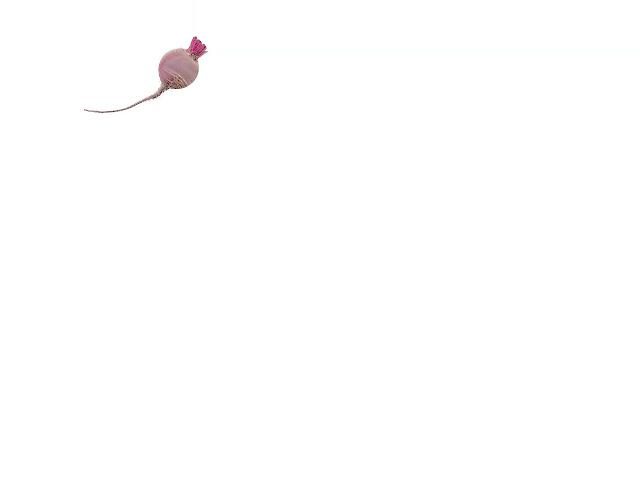beet: (82, 36, 206, 113)
